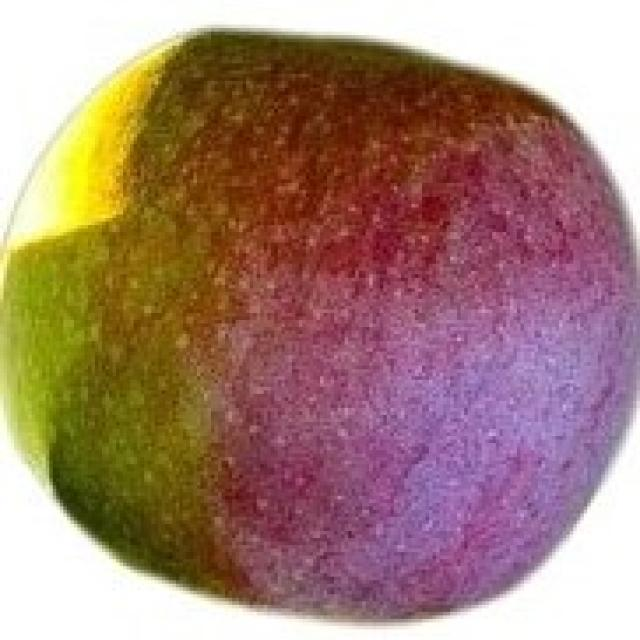75-_ripeness: (0, 22, 640, 625)
